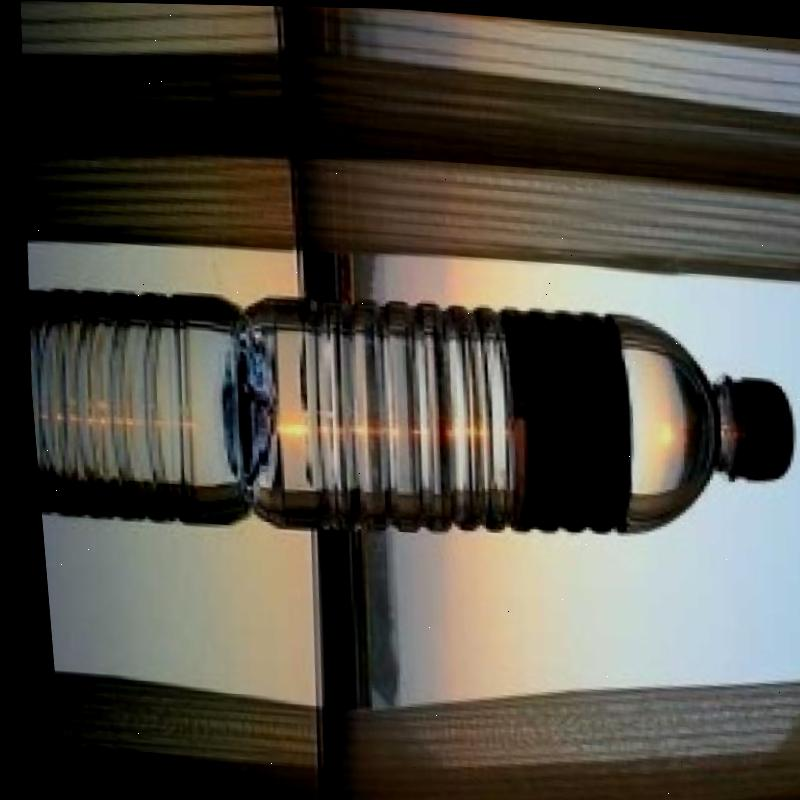botella: (212, 286, 800, 566)
